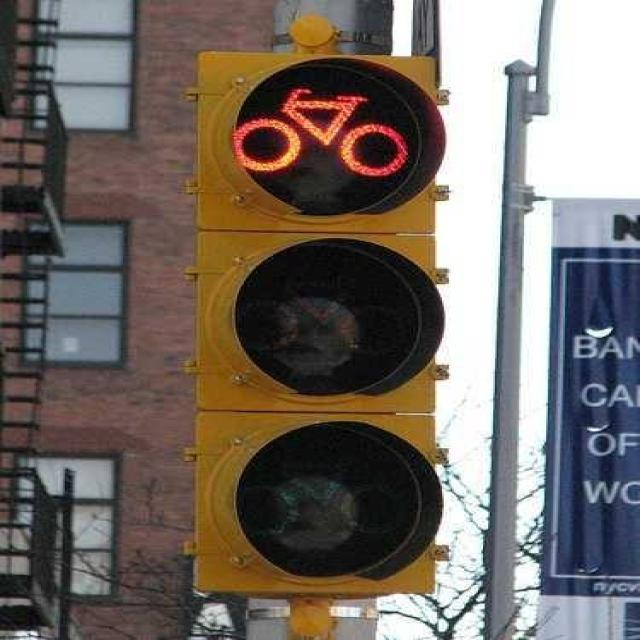Traffic Light -Red-: (185, 45, 442, 600)
